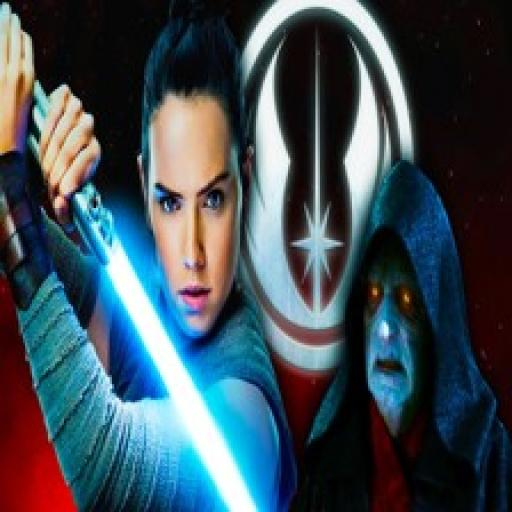human: (0, 0, 283, 509)
lightsaber: (0, 55, 263, 512)
